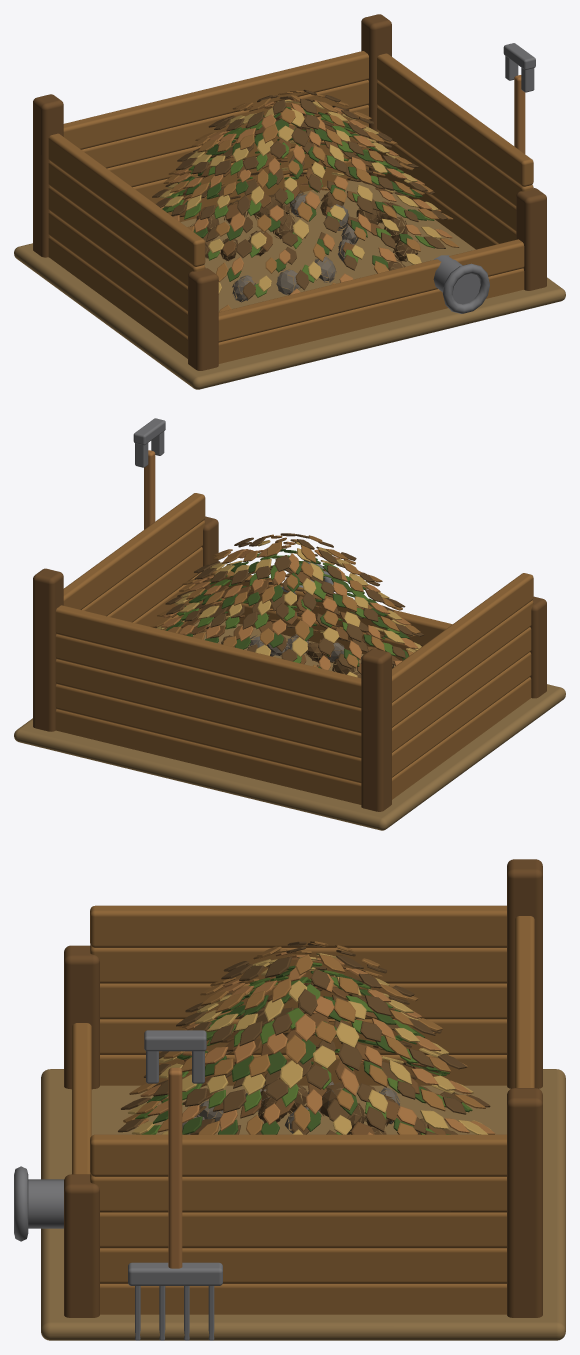
File: compost-pile.glb
The picture shows the model from 3 angles, top to bottom: view 1: azimuth 30°, elevation 25°; view 2: azimuth 150°, elevation 25°; view 3: azimuth 270°, elevation 25°; orthographic projection. The views are drawn at different scales.
Visible parts, largest first — view 1: compost-pile-farm-wood-dark, compost-pile-farm-dirt, compost-pile-farm-wood-shadow, compost-pile-farm-soil, compost-pile-farm-wood, compost-pile-farm-thatch, compost-pile-farm-metal, compost-pile-farm-leaf-dark, compost-pile-farm-leaf, compost-pile-farm-rock; view 2: compost-pile-farm-wood-dark, compost-pile-farm-dirt, compost-pile-farm-wood-shadow, compost-pile-farm-soil, compost-pile-farm-wood, compost-pile-farm-thatch, compost-pile-farm-leaf-dark, compost-pile-farm-leaf, compost-pile-farm-metal, compost-pile-farm-rock; view 3: compost-pile-farm-wood-dark, compost-pile-farm-dirt, compost-pile-farm-wood-shadow, compost-pile-farm-soil, compost-pile-farm-wood, compost-pile-farm-metal, compost-pile-farm-thatch, compost-pile-farm-leaf-dark, compost-pile-farm-leaf, compost-pile-farm-rock.
Boxes of the visible parts, x1,y1,x2,y2 form: compost-pile-farm-wood-dark: [48, 51, 533, 363]; compost-pile-farm-dirt: [14, 179, 565, 389]; compost-pile-farm-wood-shadow: [33, 14, 546, 370]; compost-pile-farm-soil: [152, 89, 447, 299]; compost-pile-farm-wood: [161, 75, 525, 294]; compost-pile-farm-thatch: [159, 100, 441, 294]; compost-pile-farm-metal: [433, 43, 535, 313]; compost-pile-farm-leaf-dark: [162, 112, 426, 281]; compost-pile-farm-leaf: [166, 107, 434, 297]; compost-pile-farm-rock: [232, 193, 358, 302]; compost-pile-farm-wood-dark: [55, 493, 533, 804]; compost-pile-farm-dirt: [14, 620, 565, 830]; compost-pile-farm-wood-shadow: [33, 516, 546, 811]; compost-pile-farm-soil: [154, 533, 423, 677]; compost-pile-farm-wood: [144, 450, 418, 670]; compost-pile-farm-thatch: [156, 540, 421, 677]; compost-pile-farm-leaf-dark: [165, 549, 409, 668]; compost-pile-farm-leaf: [177, 553, 403, 663]; compost-pile-farm-metal: [133, 418, 334, 615]; compost-pile-farm-rock: [247, 634, 361, 663]; compost-pile-farm-wood-dark: [72, 905, 534, 1314]; compost-pile-farm-dirt: [41, 1069, 565, 1340]; compost-pile-farm-wood-shadow: [64, 859, 542, 1317]; compost-pile-farm-soil: [118, 941, 490, 1134]; compost-pile-farm-wood: [137, 951, 495, 1268]; compost-pile-farm-metal: [14, 1030, 222, 1340]; compost-pile-farm-thatch: [128, 953, 490, 1134]; compost-pile-farm-leaf-dark: [147, 965, 471, 1134]; compost-pile-farm-leaf: [135, 962, 472, 1134]; compost-pile-farm-rock: [182, 1080, 399, 1134].
Size of the model in its own units: 3.8 by 2.08 by 3.36.
